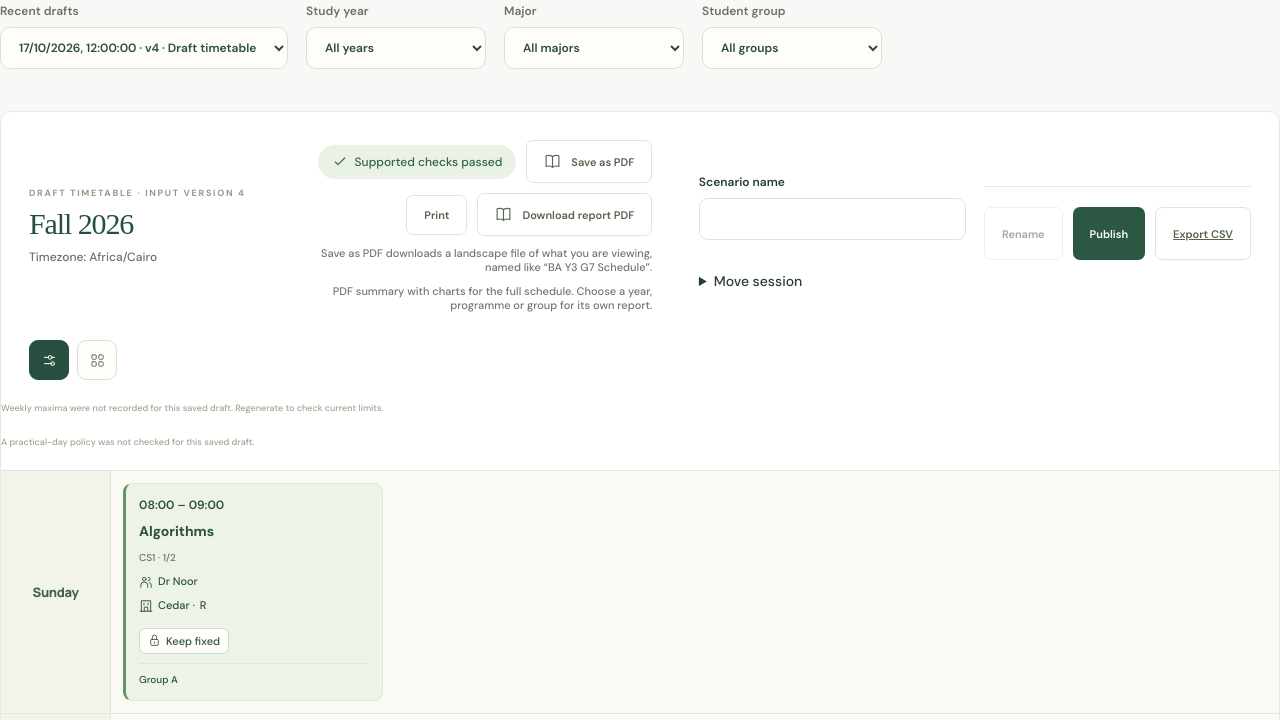
icon-only layouts are accessible and persist across remounts
The image size is (1280, 720).
Later steps or results of the test are not shown.
(page scrolled)
Click the button named "Days across the top" at (97, 360), box [77,340,117,380]
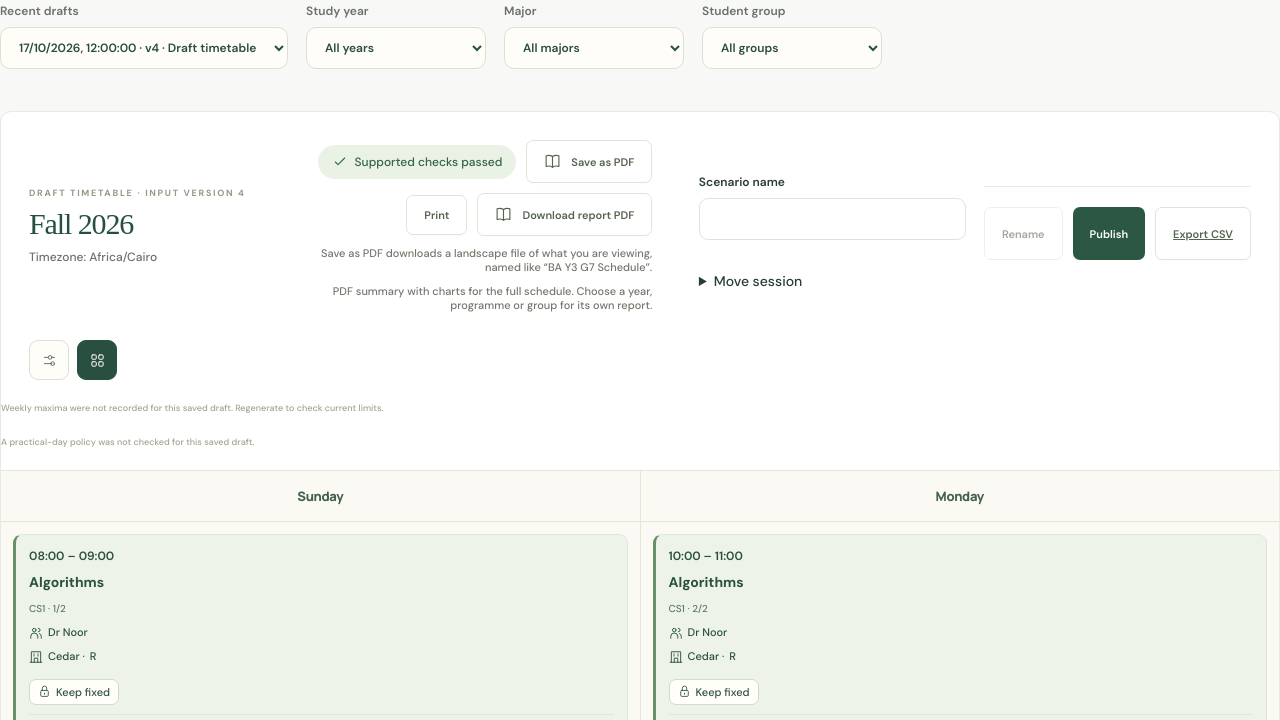
Expected: the button named "Days across the top" is pressed, [77,340,117,380]
